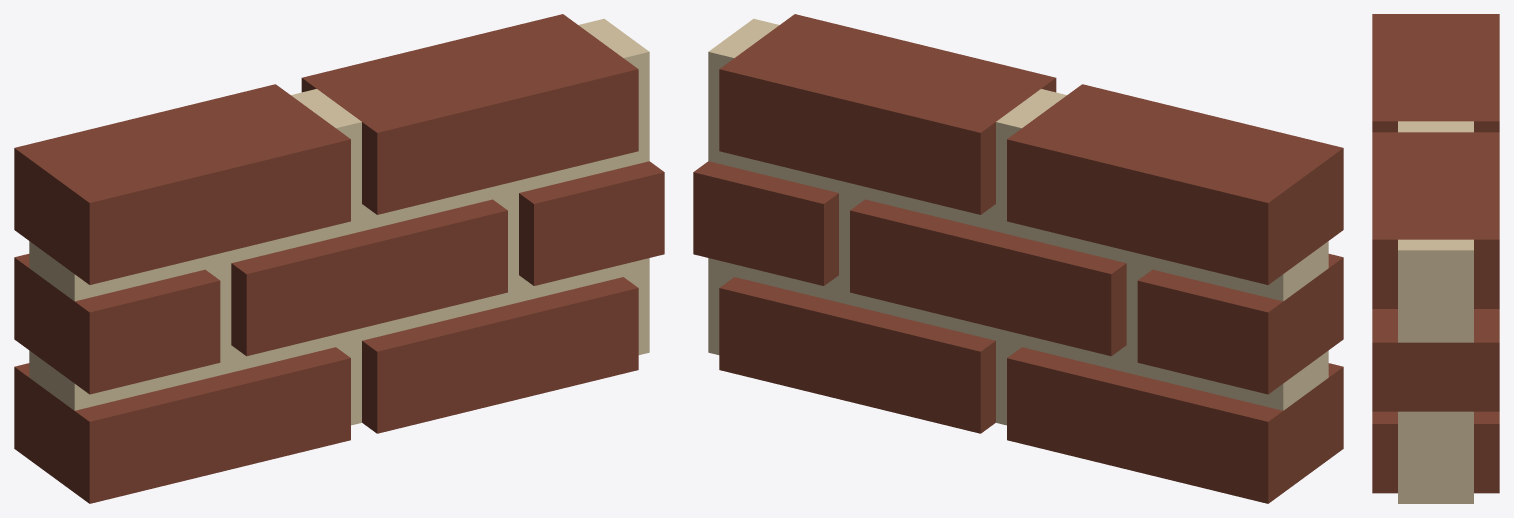
Rendered from brick_wall_doorway.obj.
The picture shows the model from 3 angles, left to right: view 1: azimuth 30°, elevation 25°; view 2: azimuth 150°, elevation 25°; view 3: azimuth 270°, elevation 25°; orthographic projection. The views are drawn at different scales.
Bounding box in the file's own units: 2.2 × 1.1 × 0.5.
1 material, 1 textured.
